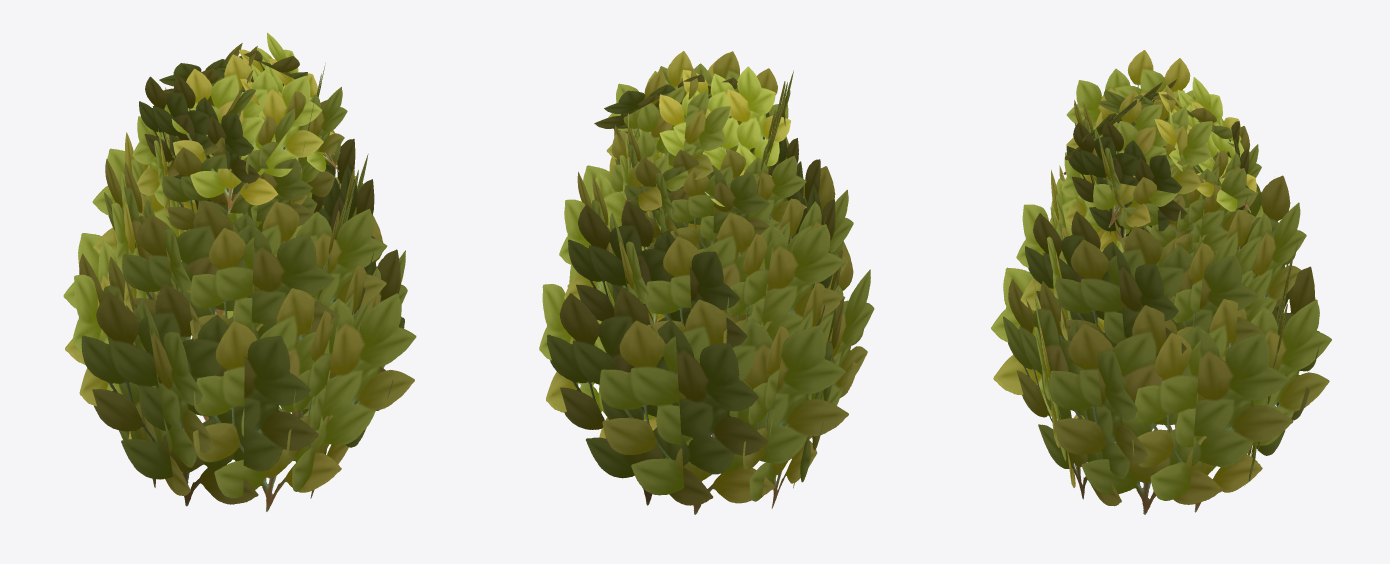
File: light-bush-004-57.glb
3 renders of one model, left to right at view 1: azimuth 30°, elevation 25°; view 2: azimuth 150°, elevation 25°; view 3: azimuth 270°, elevation 25°, orthographic. The views are drawn at different scales.
Parts seen in each view (by area): view 1: light_bush.004_57; view 2: light_bush.004_57; view 3: light_bush.004_57.
Boxes of the visible parts, bbox=[...] form: light_bush.004_57: bbox=[63, 32, 416, 511]; light_bush.004_57: bbox=[539, 51, 874, 514]; light_bush.004_57: bbox=[991, 50, 1331, 514].
Size of the model in its own units: 10.69 by 12.96 by 10.68.
Materials: 1 (1 with a texture image).
